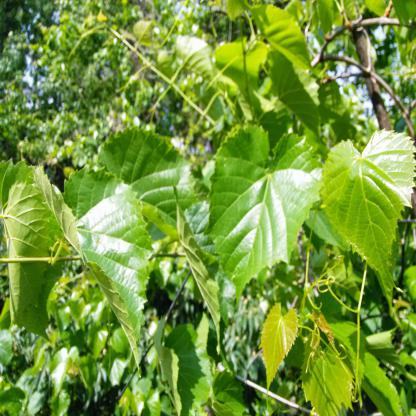grape leaf: (32, 164, 145, 374), (207, 110, 321, 305), (322, 127, 416, 284), (0, 149, 64, 346), (153, 320, 211, 416), (254, 299, 306, 392), (303, 333, 355, 416)
